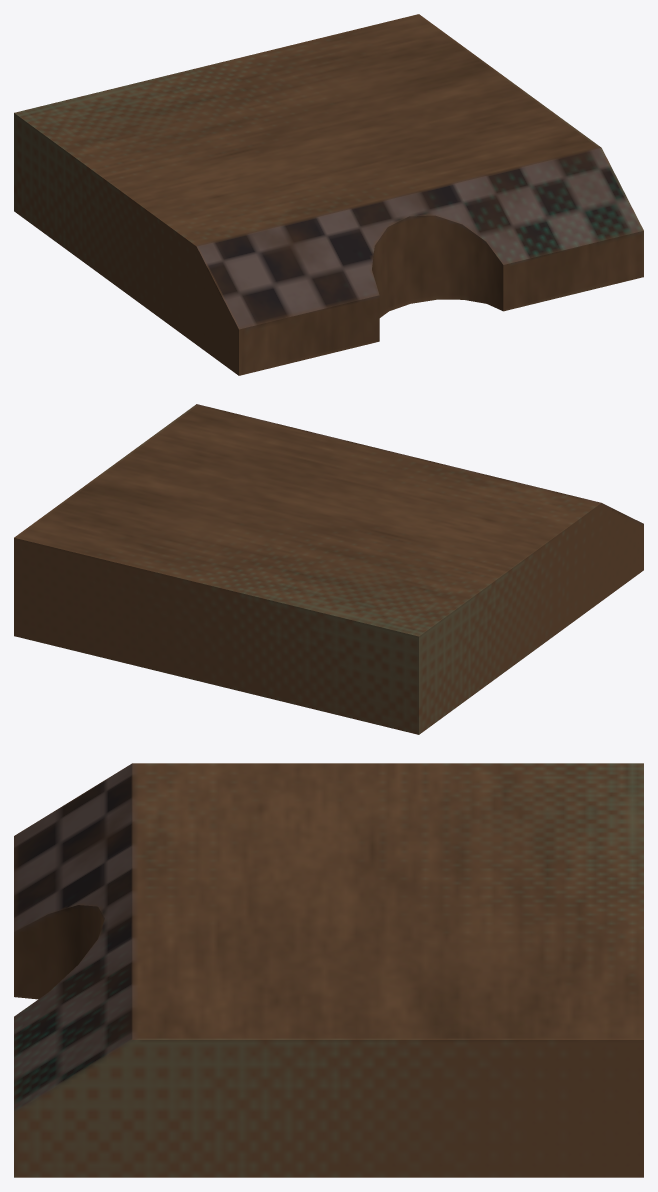
File: laohuji_2.fbx
3 views of the same model, one above another, from view 1: azimuth 30°, elevation 25°; view 2: azimuth 150°, elevation 25°; view 3: azimuth 270°, elevation 25° (orthographic). The views are drawn at different scales.
Visible parts, largest first — view 1: polySurface37; view 2: polySurface37; view 3: polySurface37.
Boxes of the visible parts, <box> form: polySurface37: <box>14,14,643,375</box>; polySurface37: <box>14,404,643,734</box>; polySurface37: <box>14,763,643,1177</box>.
Bounding box in the file's own units: 0.8677 × 0.2403 × 0.8347.
Materials: 2 (1 with a texture image).
